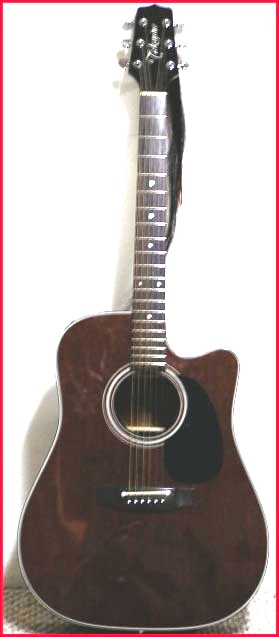guitar: (17, 5, 268, 633)
